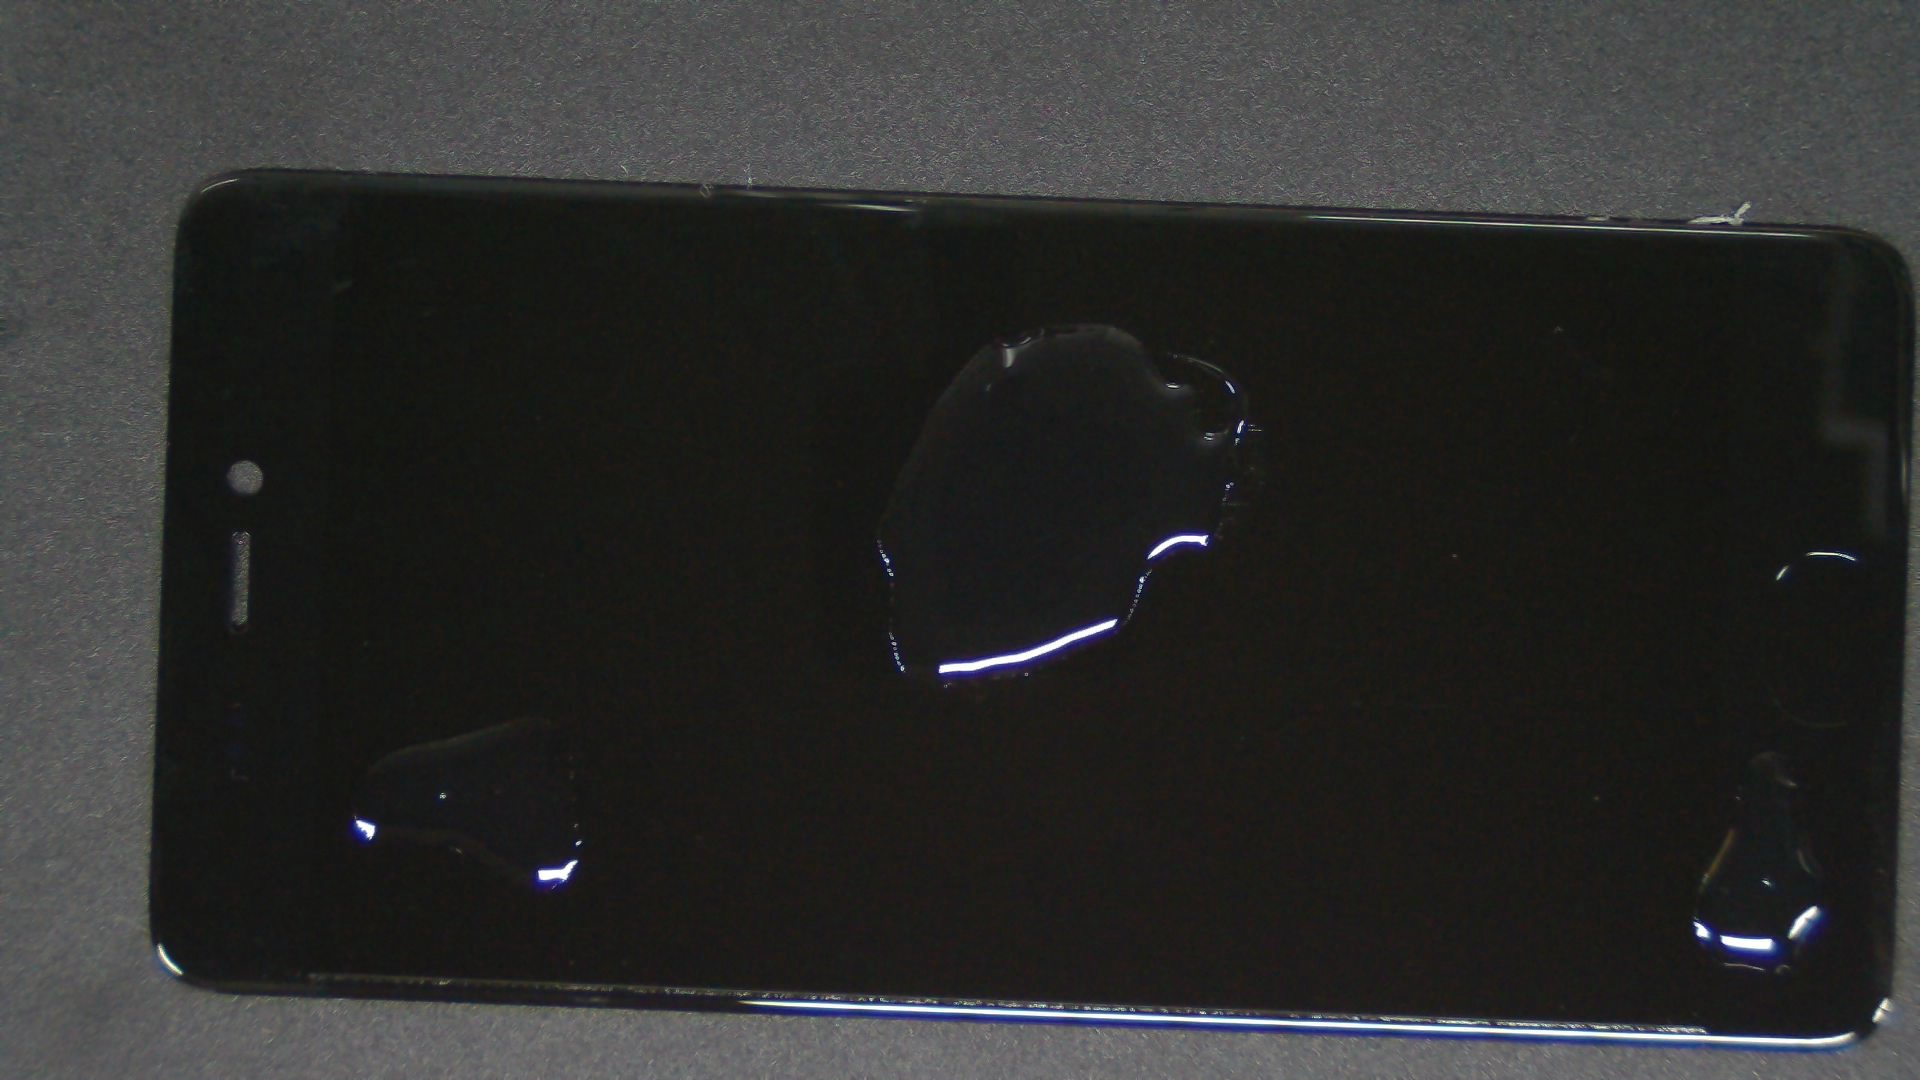oil: (881, 376, 1920, 1080), (266, 357, 799, 1076), (525, 161, 1573, 487)
